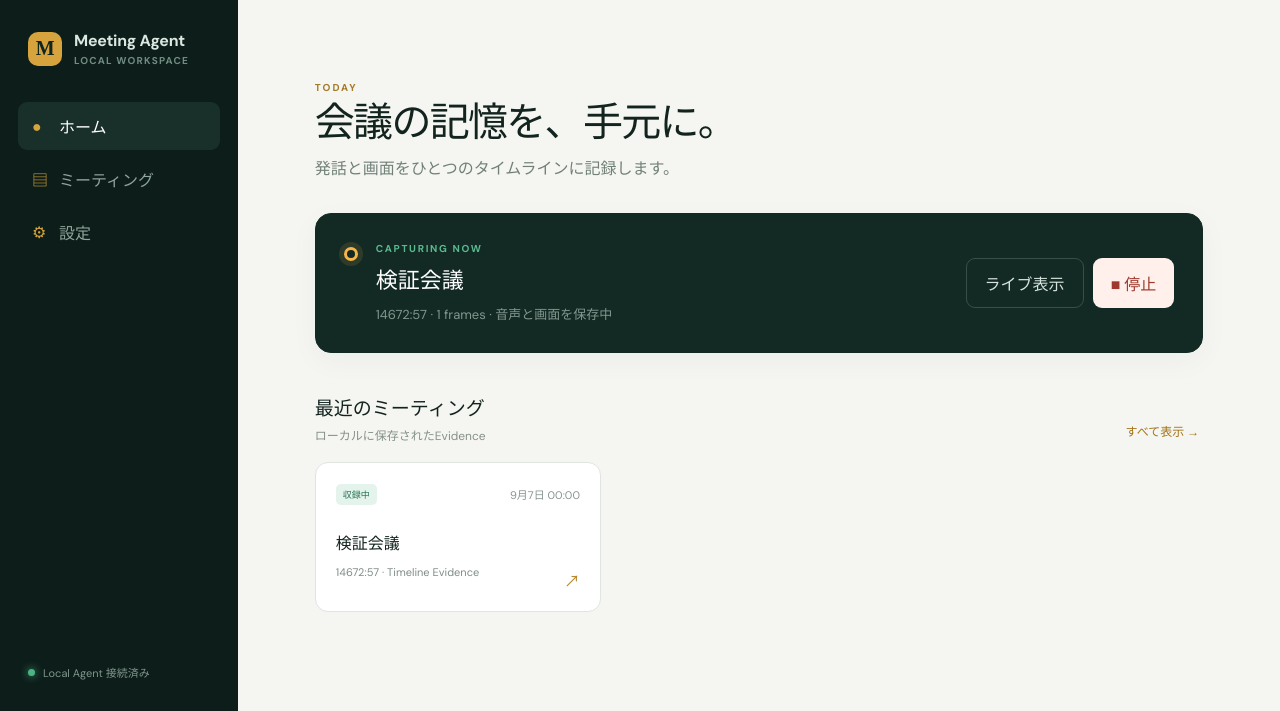
Scenario: collapses echo candidates by default and lets the user inspect the original microphone speech
The width and height of the screenshot is (1280, 711).
Step 1. Click the button "ライブ表示" → (1025, 282), box [966,258,1084,308]
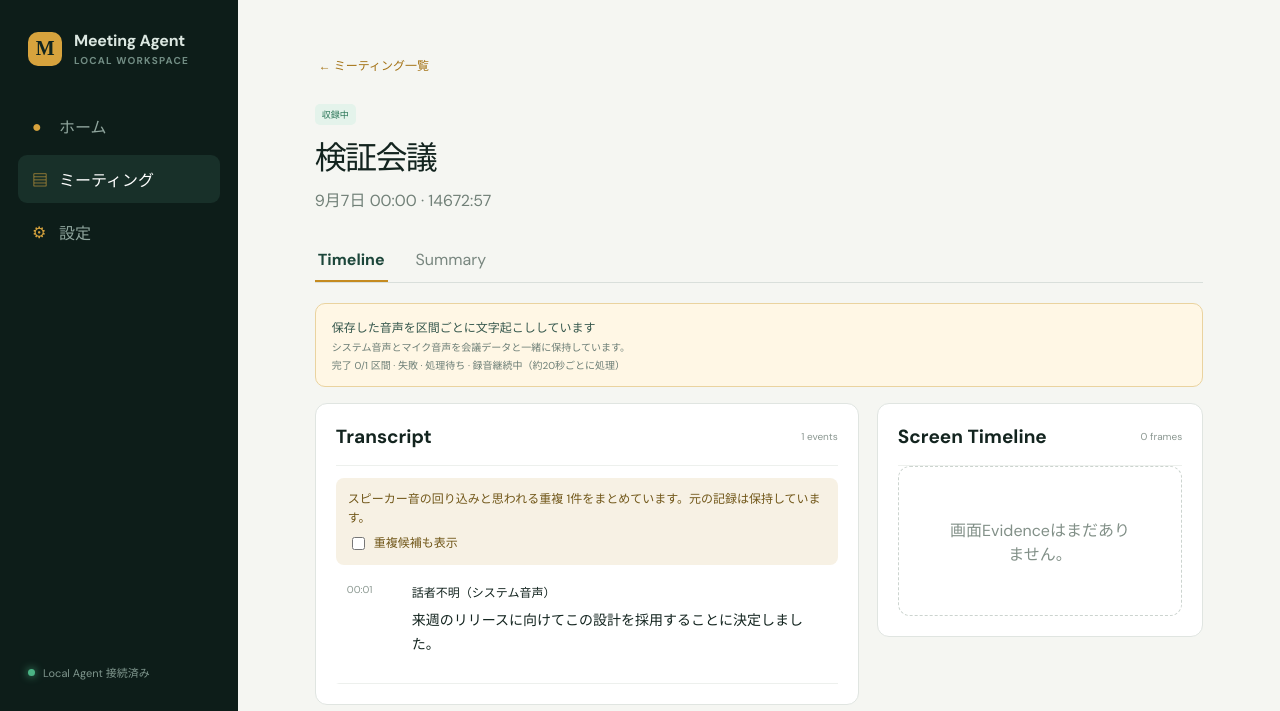
Now the text "回り込みと思われる重複 1件" is shown, box [348,490,826,528]
Now the text "来週のリリースに向けてこの設計を採用することに決定しました。" is shown once, box [412,609,830,657]
Step 2. Click the checkbox labelled "重複候補も表示" → (358, 544), box [352,537,365,550]
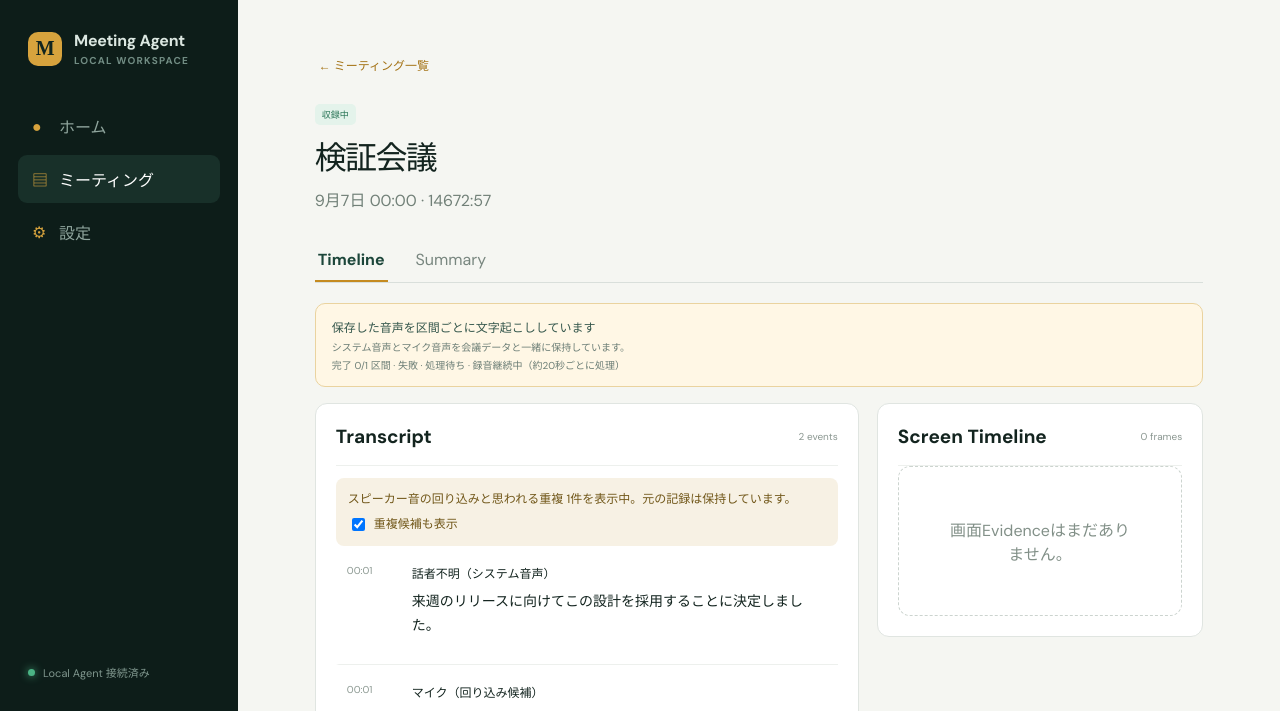
Now the text "マイク（回り込み候補）" is shown, box [412,683,544,701]
